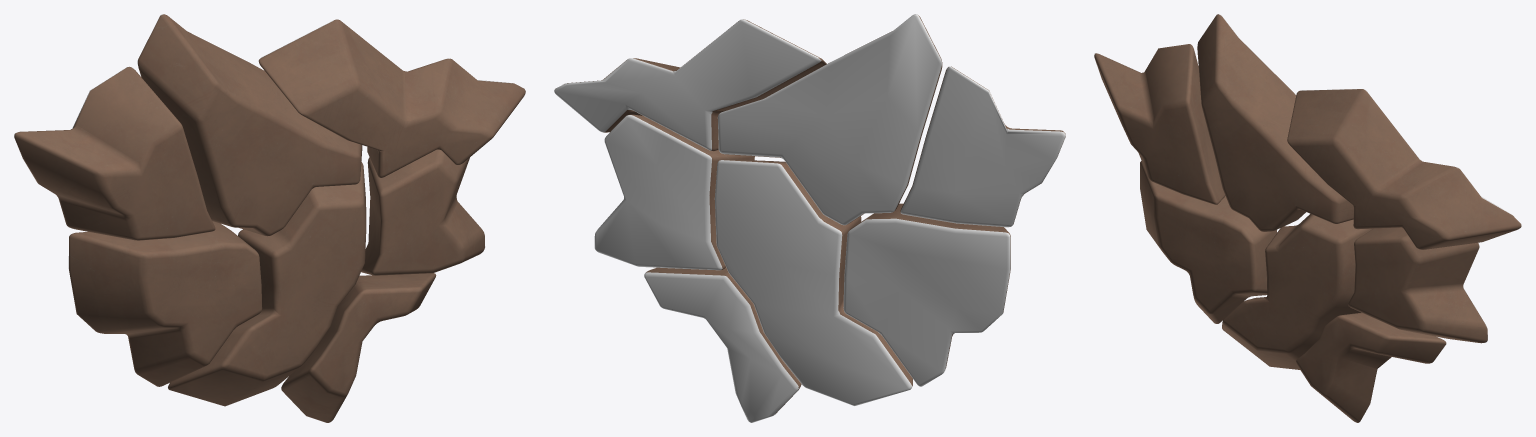
Rendered from Broken_wall_Textured.fbx.
The picture shows the model from 3 angles, left to right: view 1: azimuth 30°, elevation 25°; view 2: azimuth 150°, elevation 25°; view 3: azimuth 330°, elevation 25°; orthographic projection. The views are drawn at different scales.
Visible parts, largest first — view 1: Broken wall.005, Broken wall.006, Broken wall.003, Broken wall.002, Broken wall, Broken wall.001, Broken wall.004; view 2: Broken wall.005, Broken wall, Broken wall.003, Broken wall.006, Broken wall.002, Broken wall.001, Broken wall.004; view 3: Broken wall.006, Broken wall.005, Broken wall, Broken wall.002, Broken wall.001, Broken wall.003, Broken wall.004.
Boxes of the visible parts, x1,y1,x2,y2 form: Broken wall.005: [137, 14, 362, 236]; Broken wall.006: [258, 19, 525, 177]; Broken wall.003: [68, 221, 262, 386]; Broken wall.002: [14, 66, 215, 240]; Broken wall: [168, 162, 366, 406]; Broken wall.001: [361, 149, 484, 275]; Broken wall.004: [281, 273, 436, 422]; Broken wall.005: [717, 14, 942, 225]; Broken wall: [714, 159, 912, 405]; Broken wall.003: [843, 203, 1010, 386]; Broken wall.006: [554, 19, 826, 151]; Broken wall.002: [900, 66, 1065, 227]; Broken wall.001: [594, 114, 754, 270]; Broken wall.004: [644, 267, 801, 422]; Broken wall.006: [1287, 89, 1521, 249]; Broken wall.005: [1197, 14, 1353, 231]; Broken wall: [1222, 214, 1372, 369]; Broken wall.002: [1094, 44, 1225, 204]; Broken wall.001: [1348, 227, 1487, 343]; Broken wall.003: [1140, 161, 1276, 323]; Broken wall.004: [1296, 312, 1446, 422].
Bounding box in the file's own units: 221 × 186 × 26.5.
